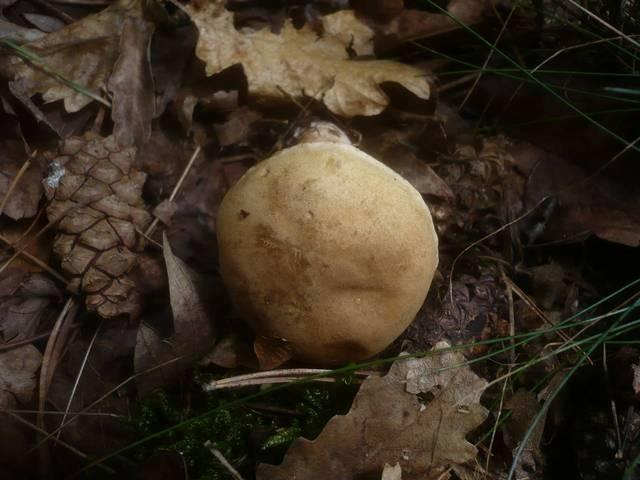Non-edible Mushroom: (214, 138, 440, 366)
